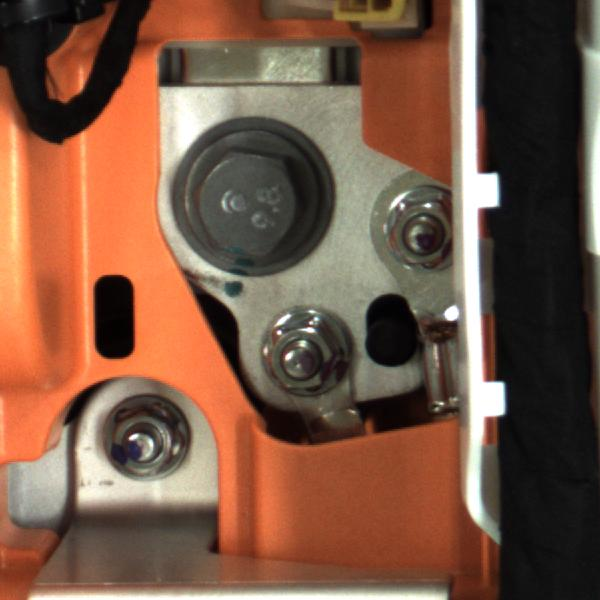nut_b: (175, 113, 334, 277)
screw_s: (256, 303, 352, 404), (107, 396, 182, 491), (383, 195, 449, 270)
